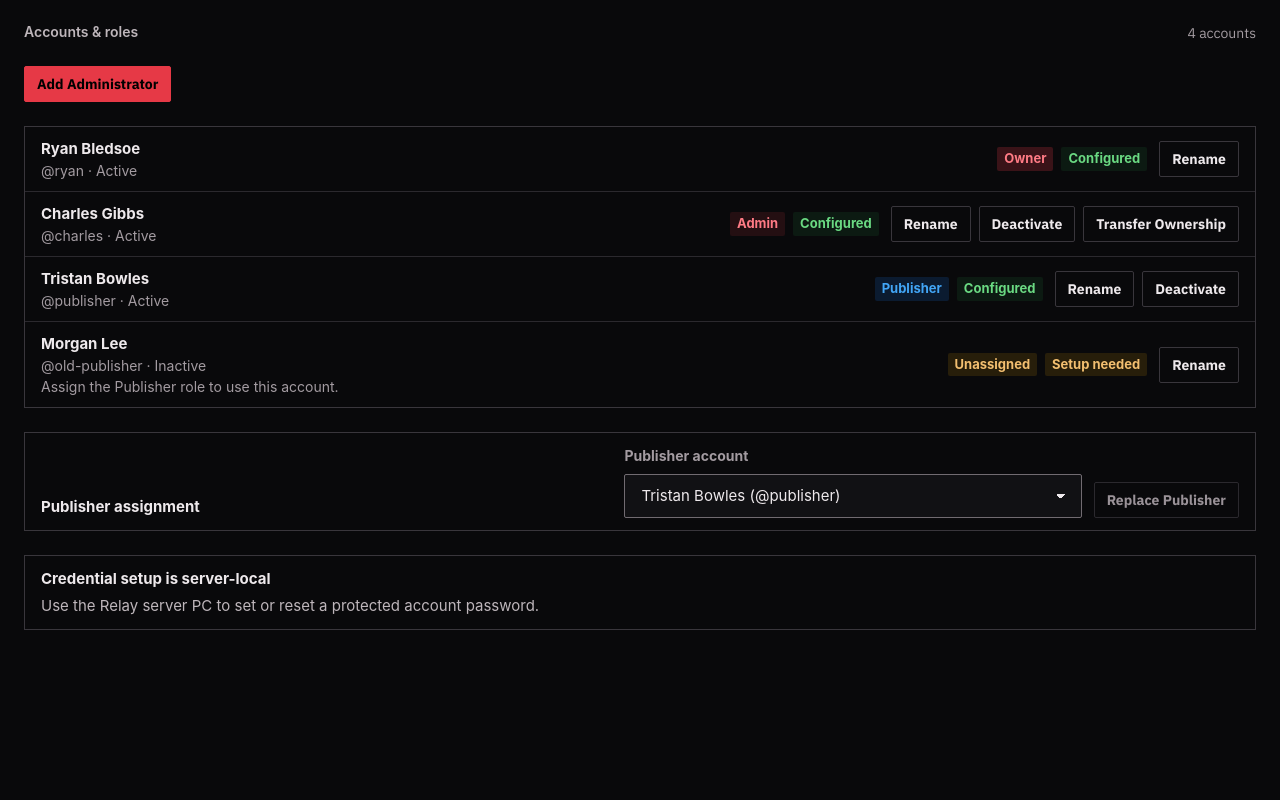
Scenario: RoleAccountsPanel › keeps reauthentication failures inside the active dialog with actionable text
The image size is (1280, 800).
Step 1. Select "Morgan Lee (@old-publisher)" in the dropdown labelled "Publisher account" → (853, 496), box [624,474,1082,518]
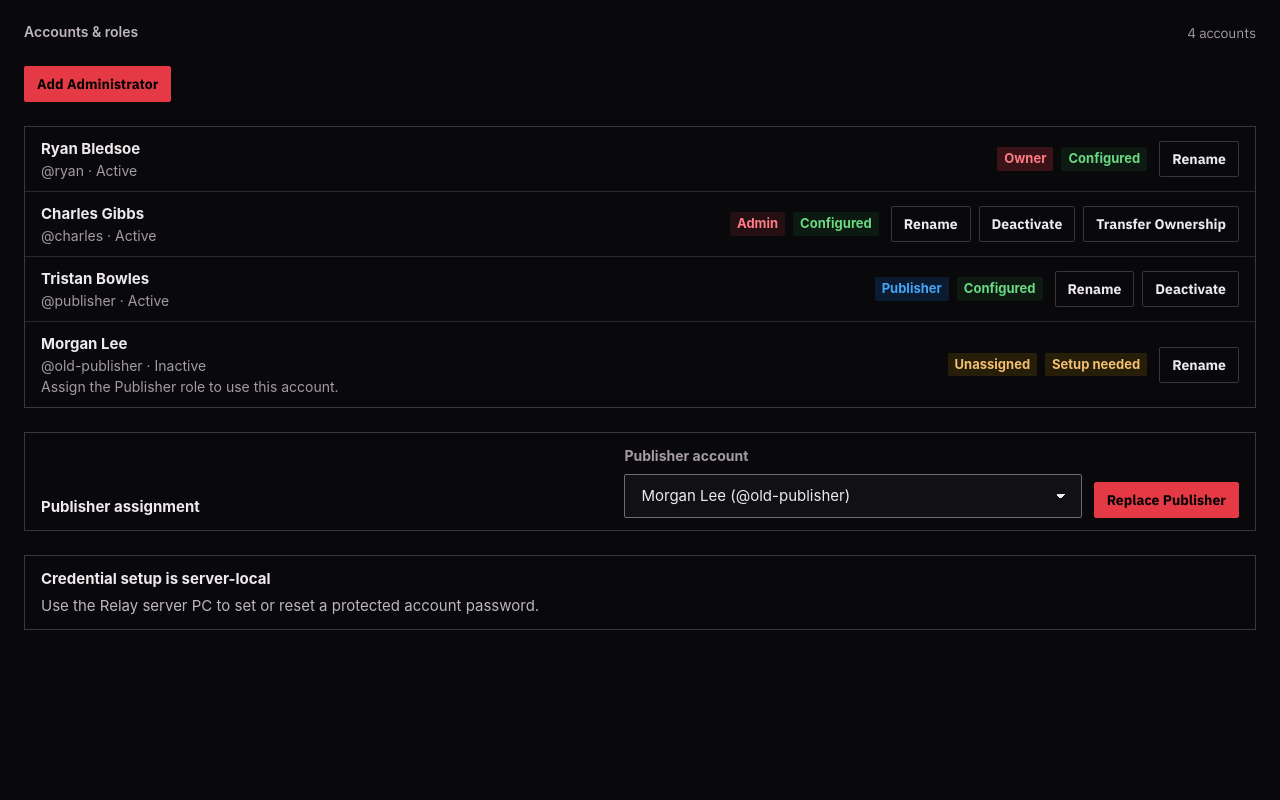
Step 2. Click the button "Replace Publisher" → (1166, 500), box [1094,482,1239,518]
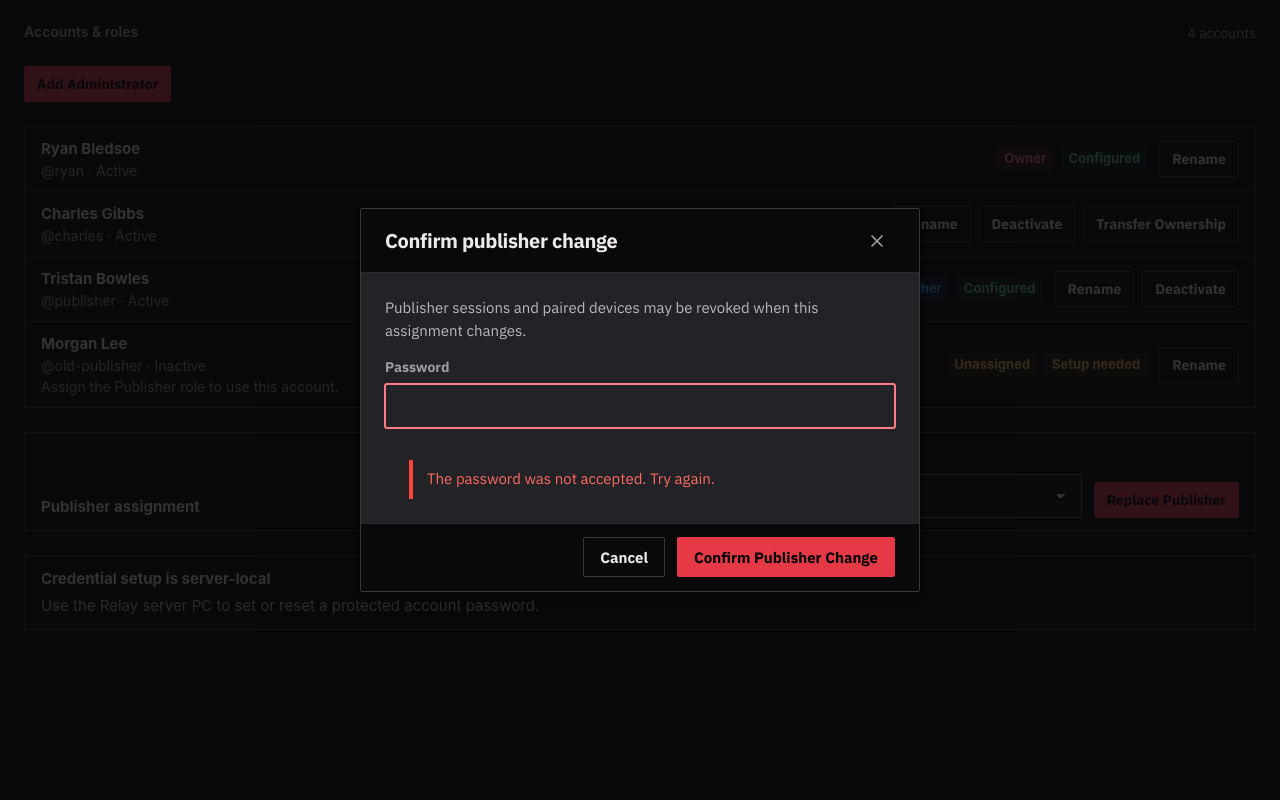
Result: the message reads "The password was not accepted. Try again." at [427,469,715,488]
